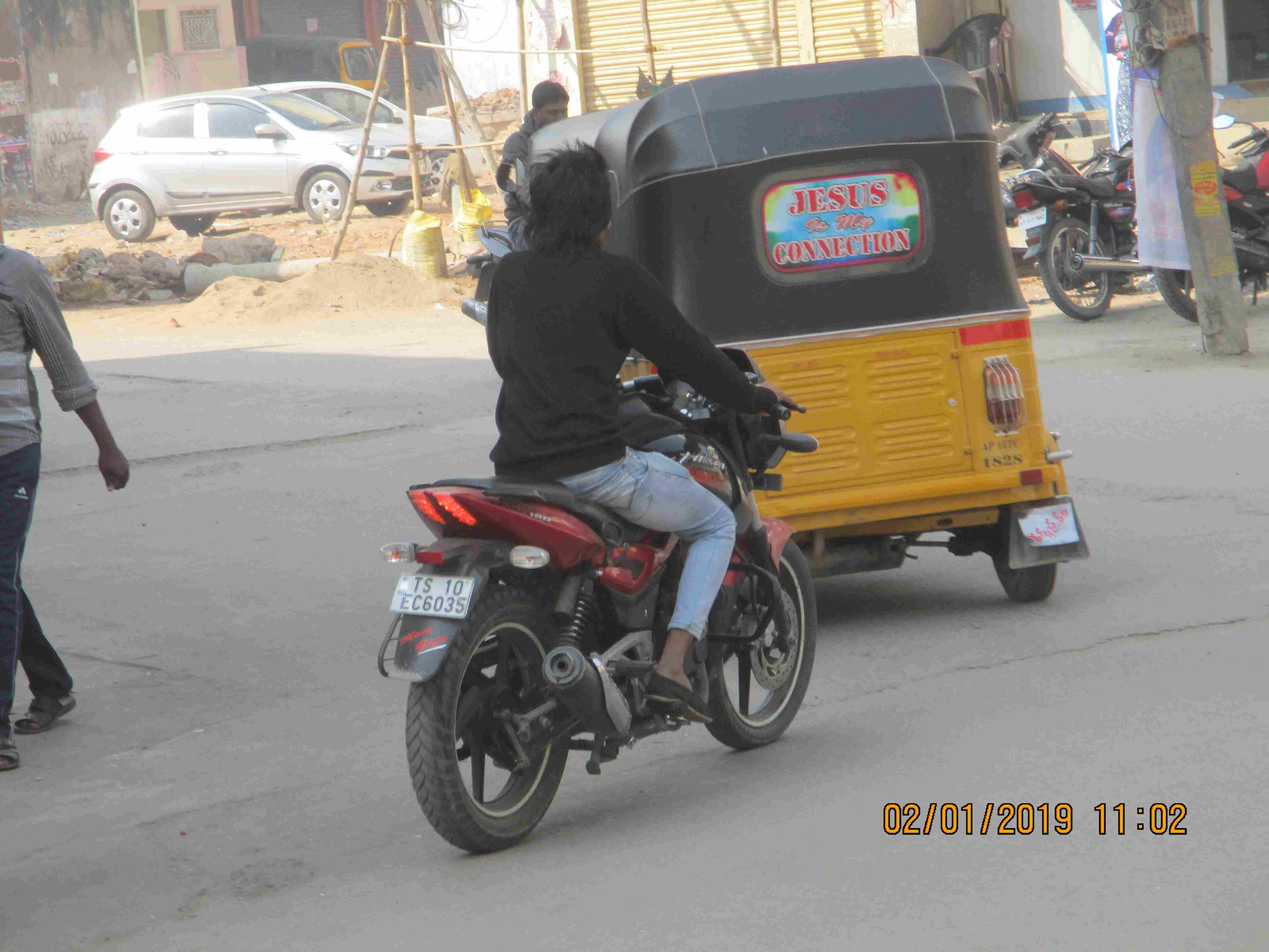plate: (387, 558, 479, 638)
